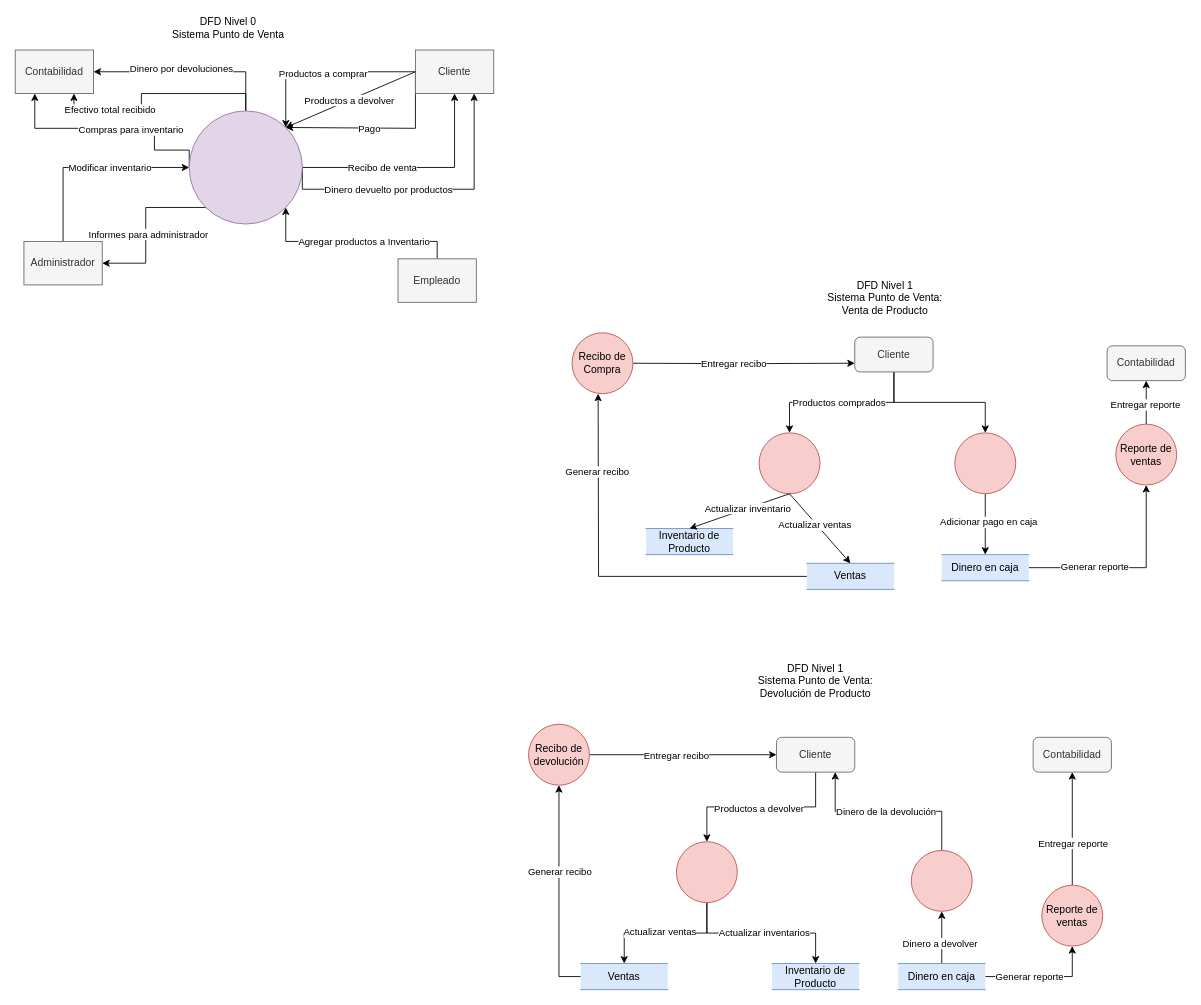
Image size: 1201x1005. Some labels were removed from this diagram. The centre of each missing label's shape, as x and y in pixels:
Devolución dinero: (941,880)
Devolución producto: (706,872)
Pago de Compra: (985,463)
Realizar Compra: (789,463)
Sistema Punto de Venta: (245,167)
